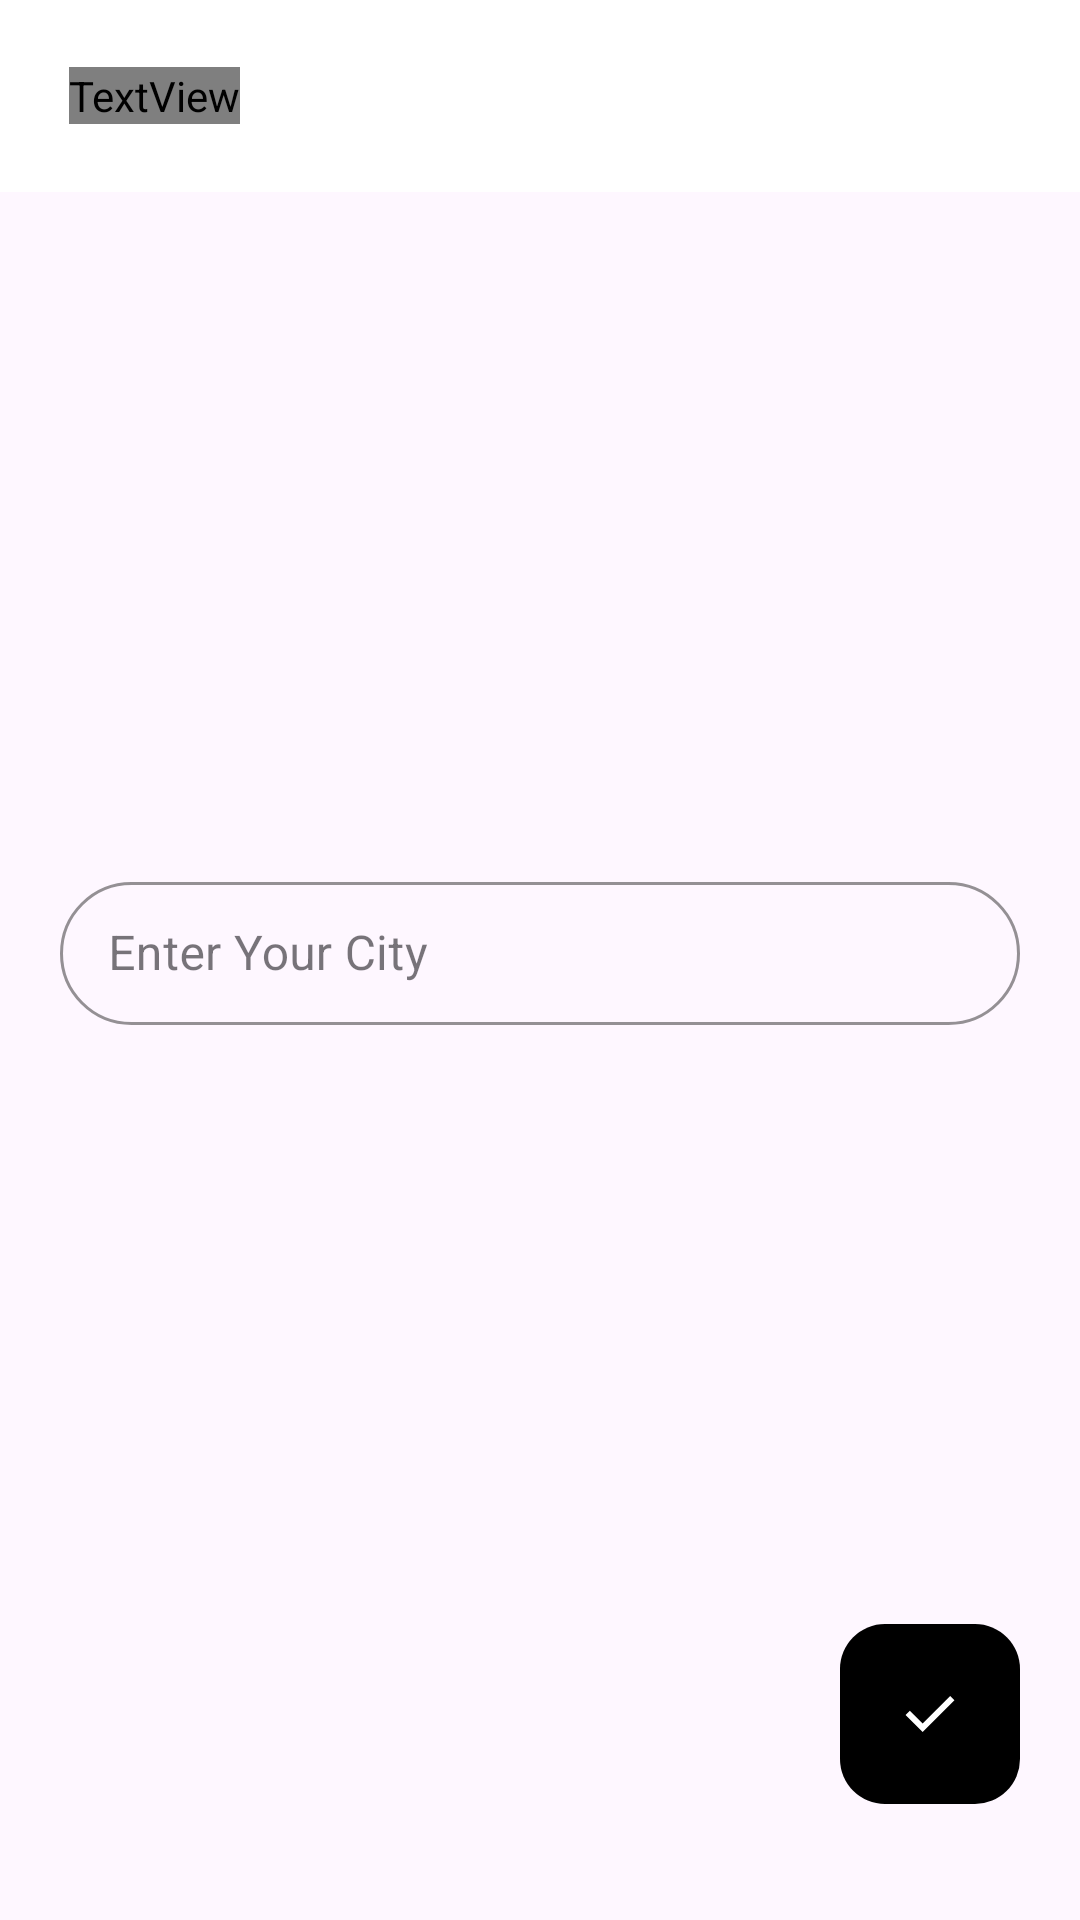

Locate icon controls on the screen. Image size 1080px x 1920px, boxes as box=[x1, y1, x2, y2].
done: box=[840, 1624, 1020, 1804]
